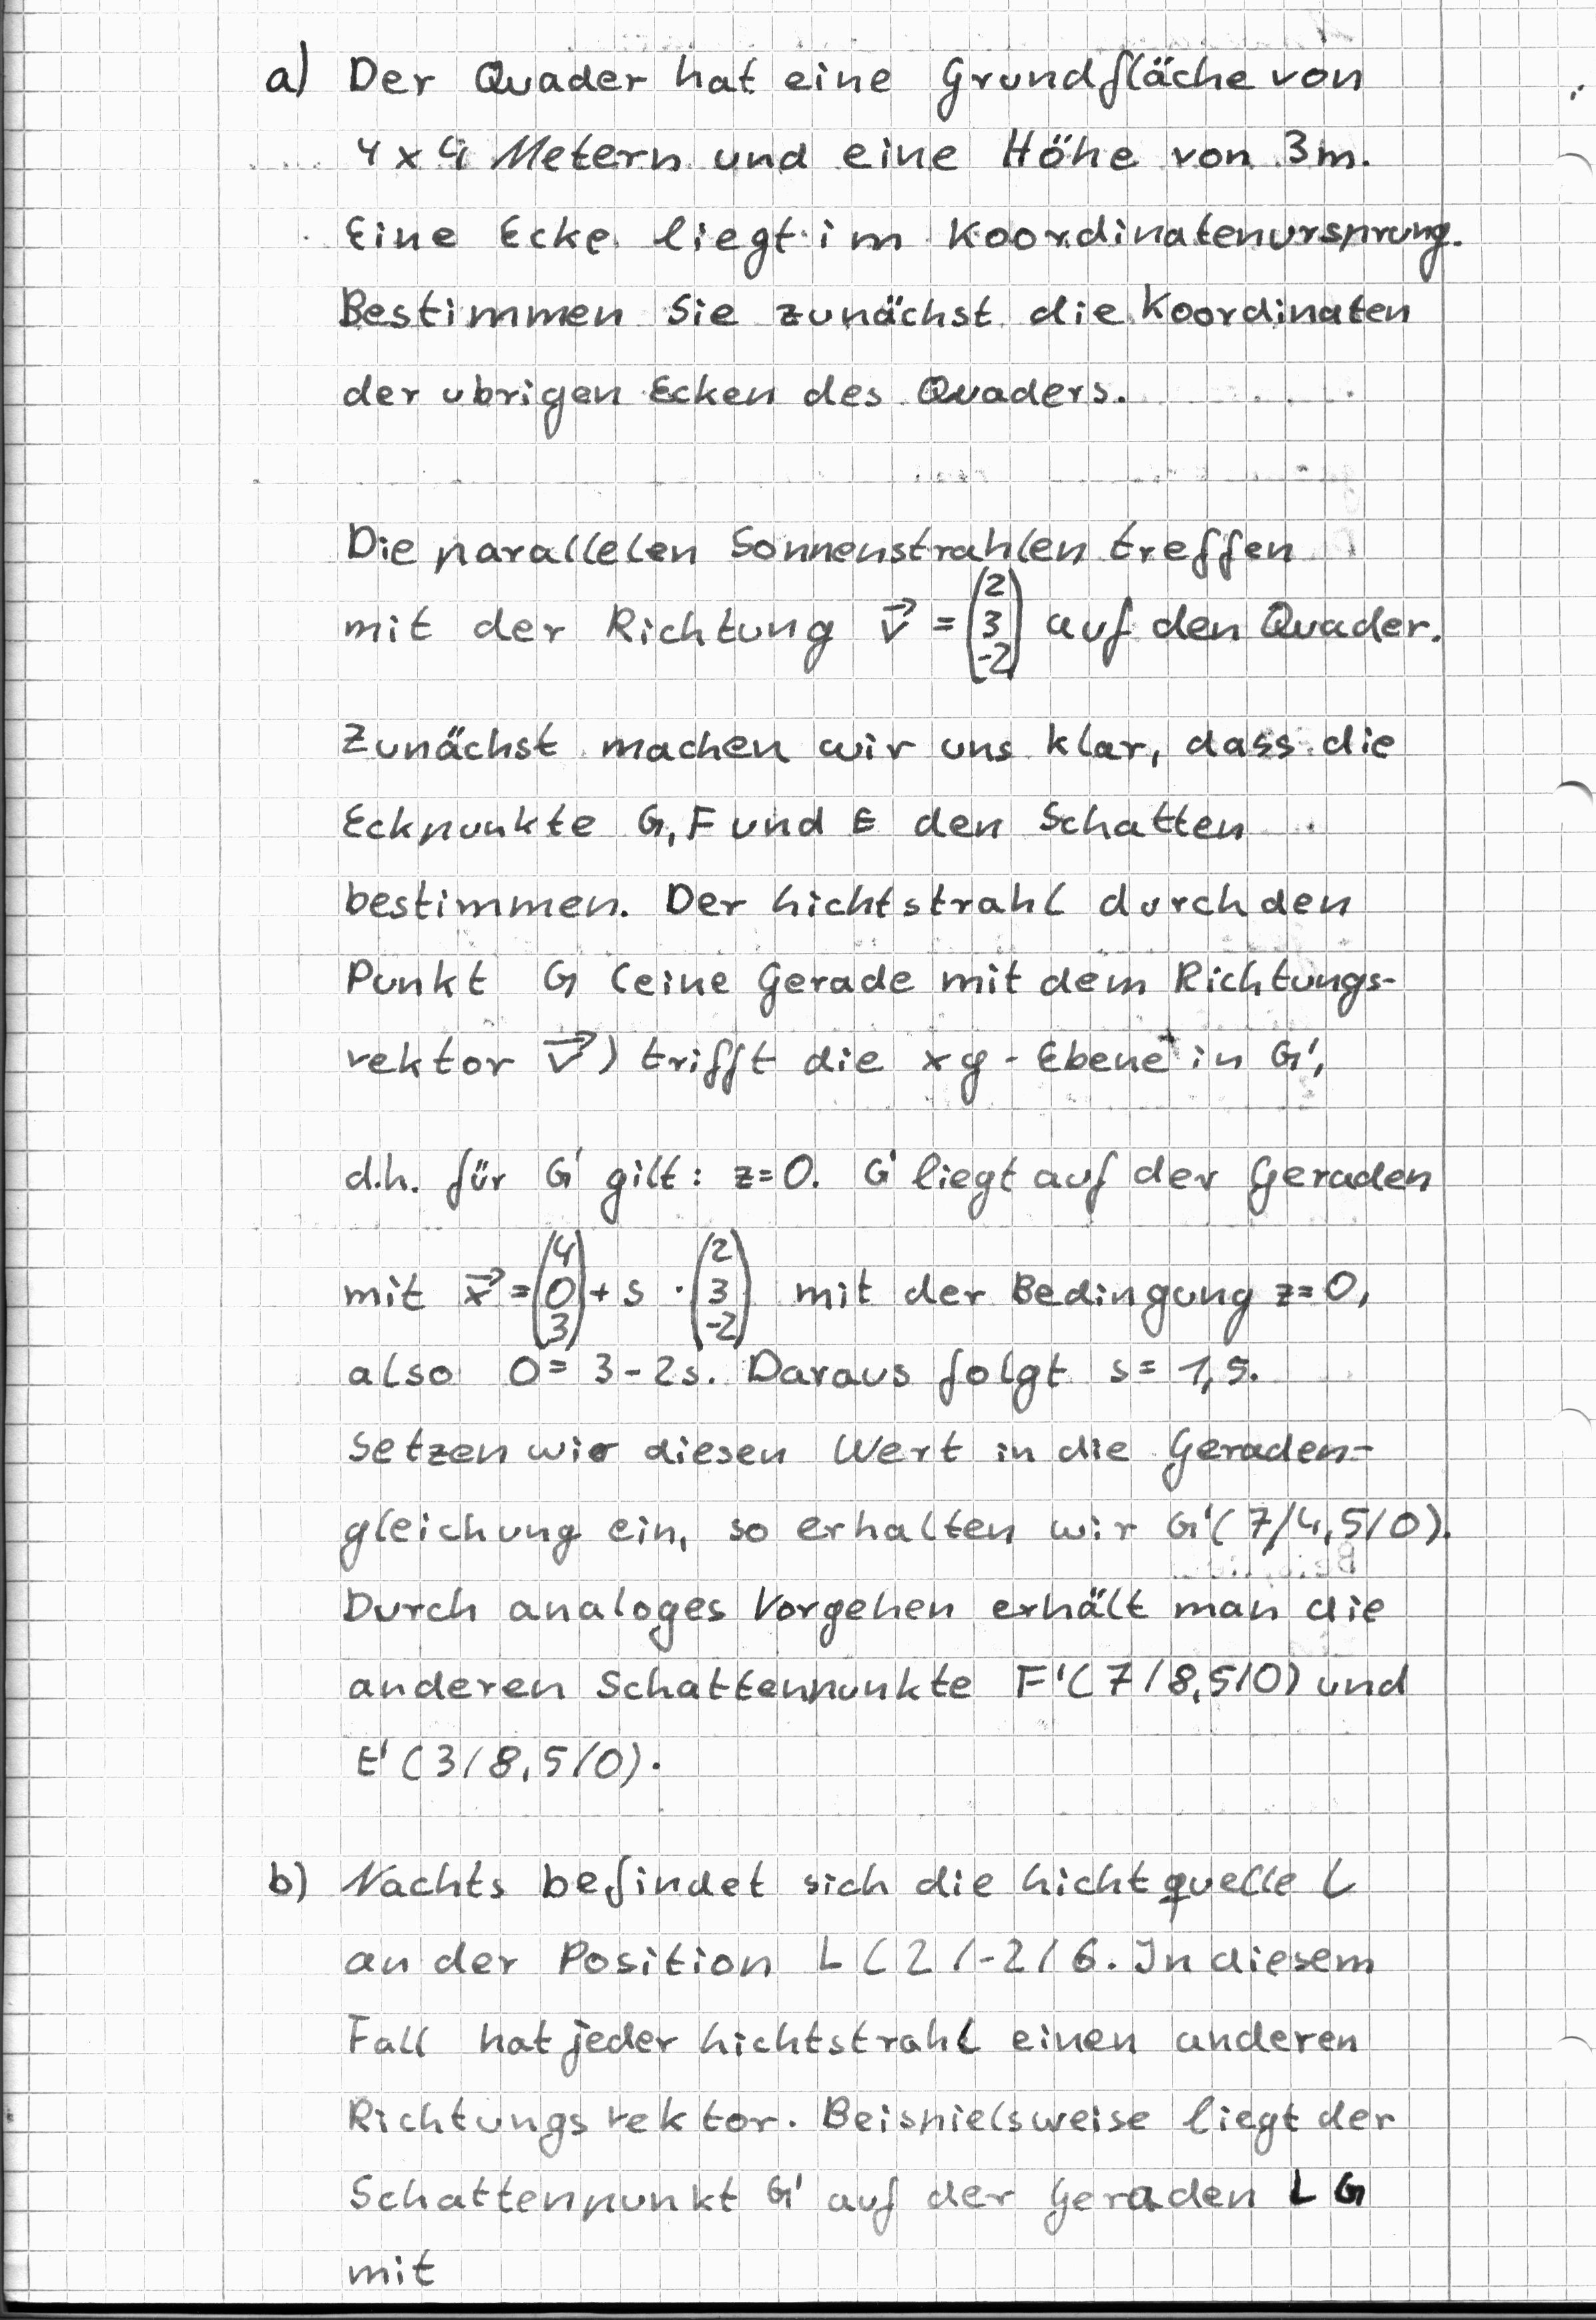word: (328, 1132, 1455, 1718), (326, 1840, 1414, 2295), (329, 39, 1468, 444), (334, 709, 1416, 1109), (335, 503, 1452, 694), (351, 1725, 672, 1795), (238, 1831, 337, 1930), (245, 15, 322, 111)
